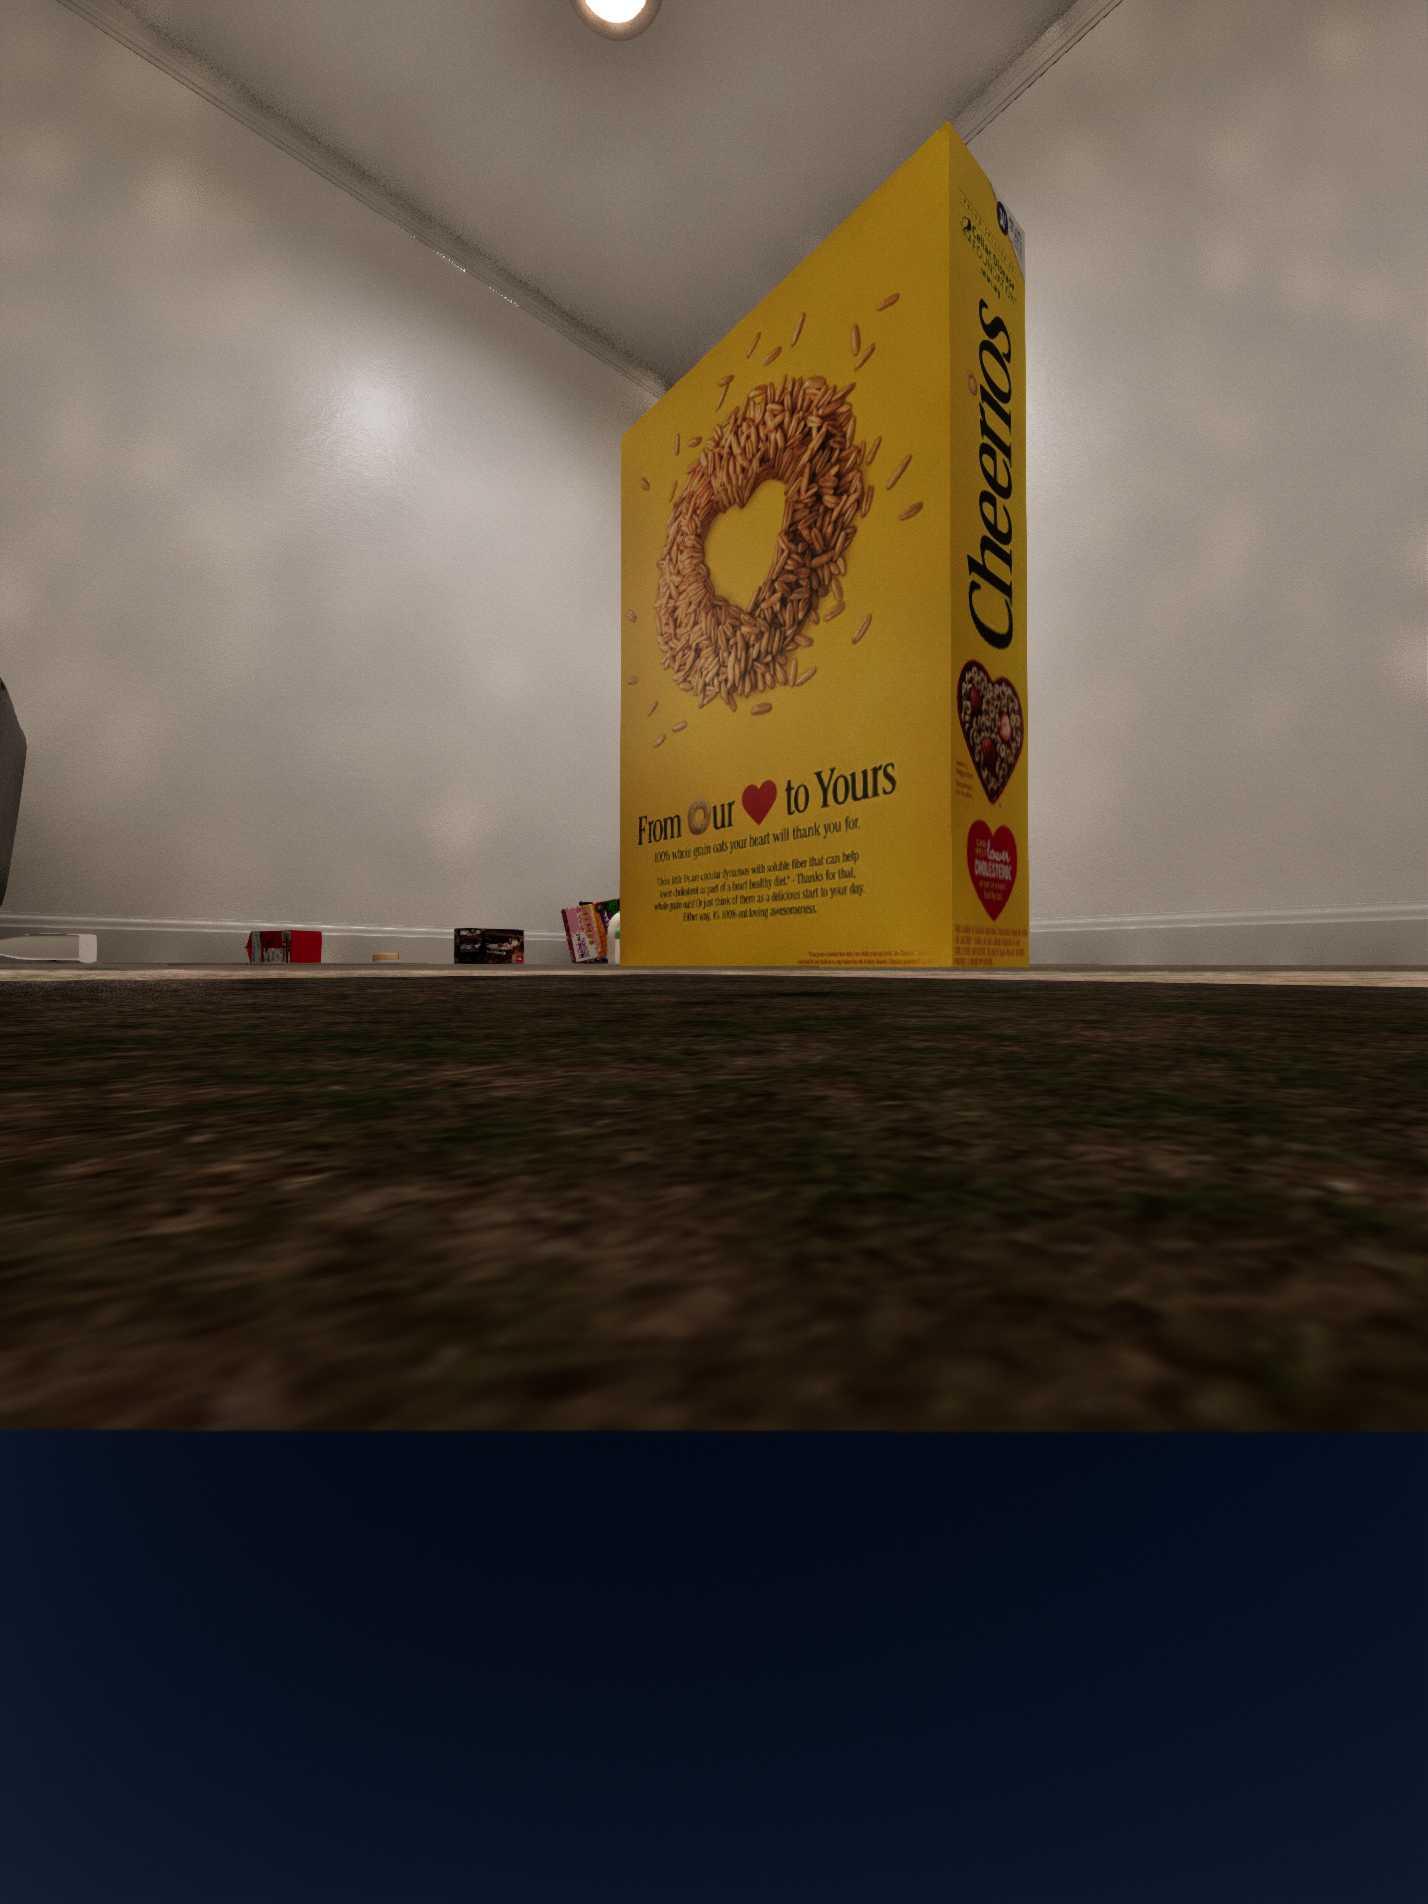cheerios: (619, 120, 1029, 967)
